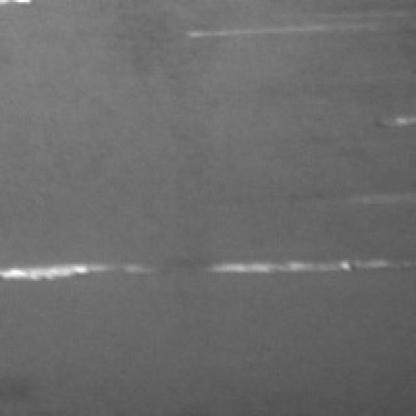scratches: (212, 249, 391, 278), (5, 252, 144, 285)
